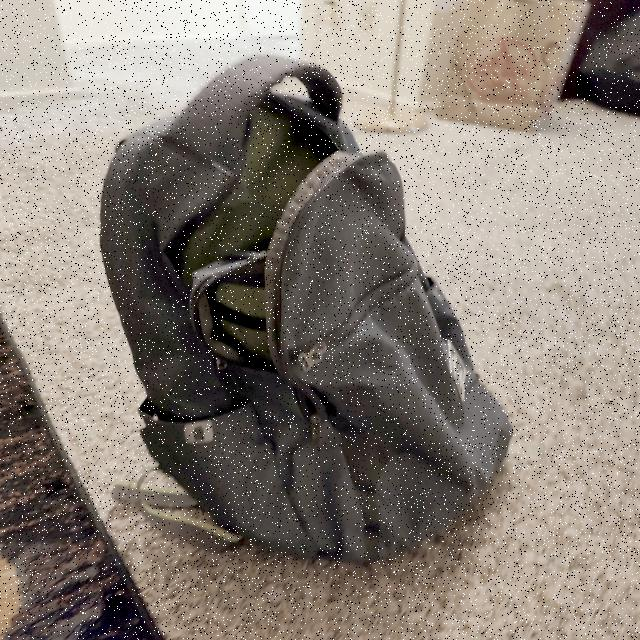bag: (120, 54, 512, 534)
